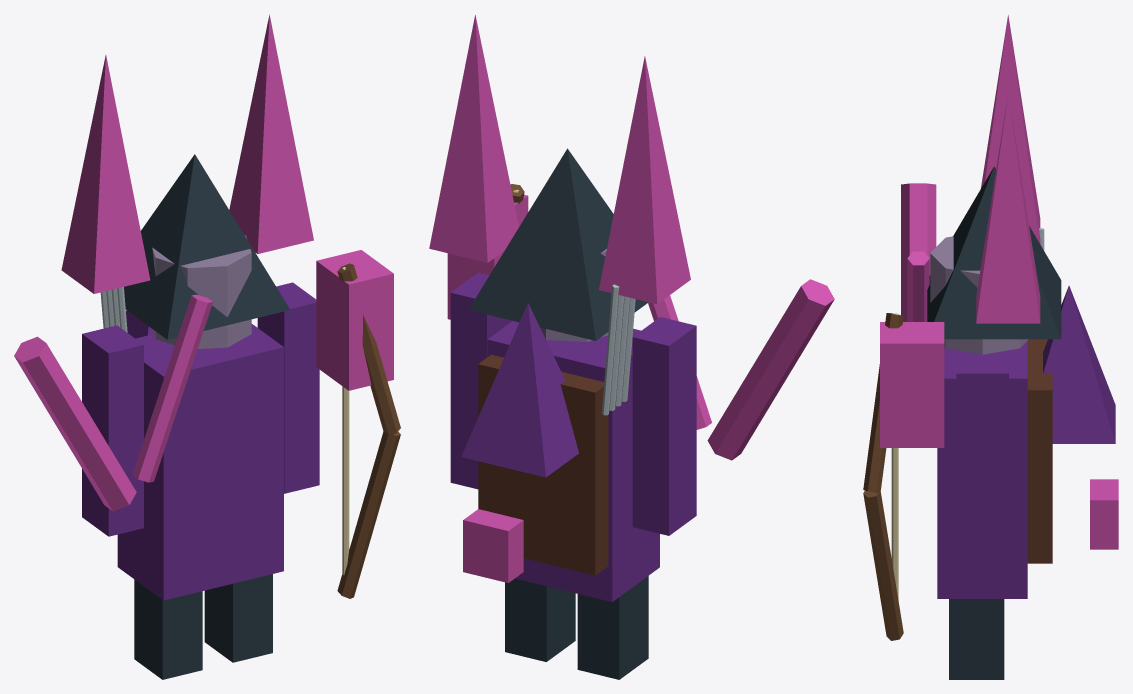
Rendered from stone-slinger.obj.
3 views of the same model, side by side, from view 1: azimuth 30°, elevation 25°; view 2: azimuth 150°, elevation 25°; view 3: azimuth 270°, elevation 25° (orthographic). The views are drawn at different scales.
Parts seen in each view (by area): view 1: ranged; view 2: ranged; view 3: ranged.
Part boxes in pixels (box(x1,y1,x2,y2)): ranged: box(14, 14, 400, 679); ranged: box(429, 15, 834, 679); ranged: box(863, 15, 1118, 679).
Bounding box in the file's own units: 1.26 × 2.07 × 0.7977.
